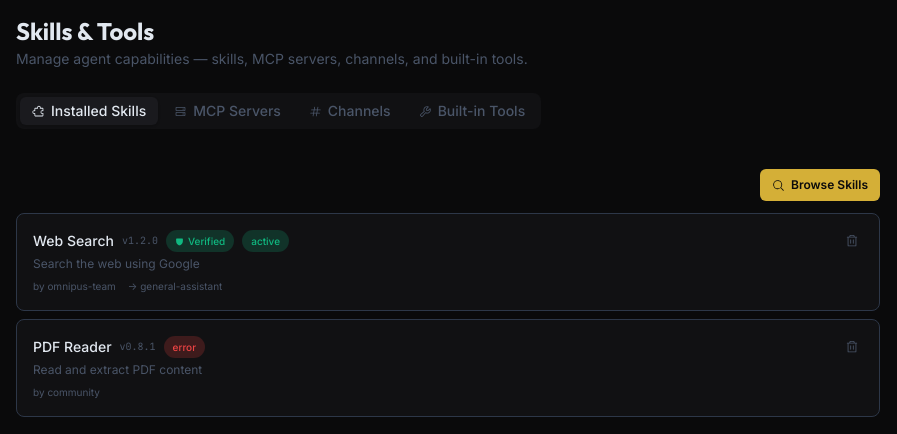
Test: SkillsScreen — built-in tools tab › shows built-in tool list including exec and web_search
Expected: the heading "Skills & Tools" is shown, [16,16,154,46]
Click the tab "Built-in Tools" at {"x": 472, "y": 111}, box [407,97,537,125]
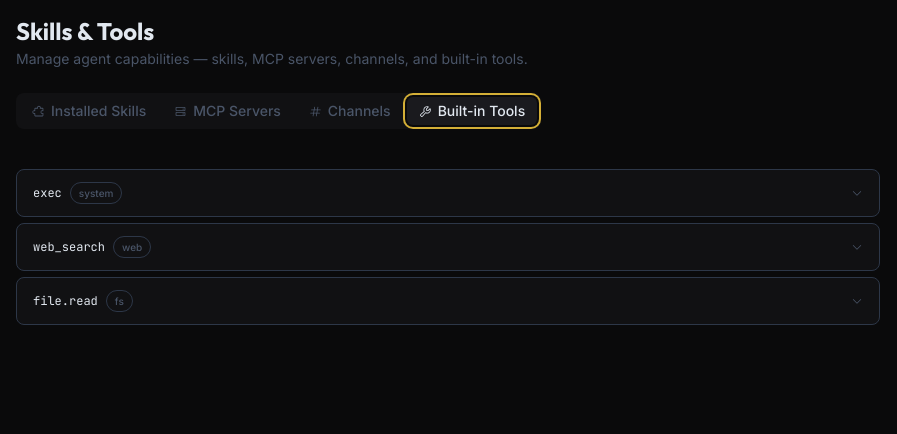
Expected: the text "exec" is shown, [33,185,62,201]
Expected: the text "web_search" is shown, [33,239,105,255]
Expected: the text "file.read" is shown, [33,293,98,309]
